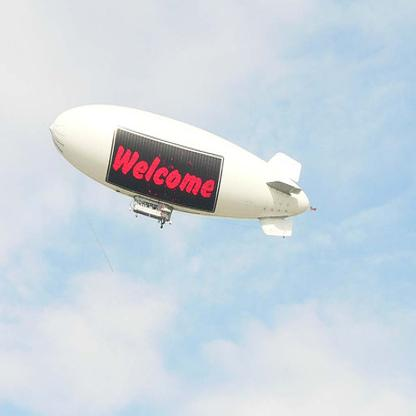Airship: (46, 105, 320, 243)
